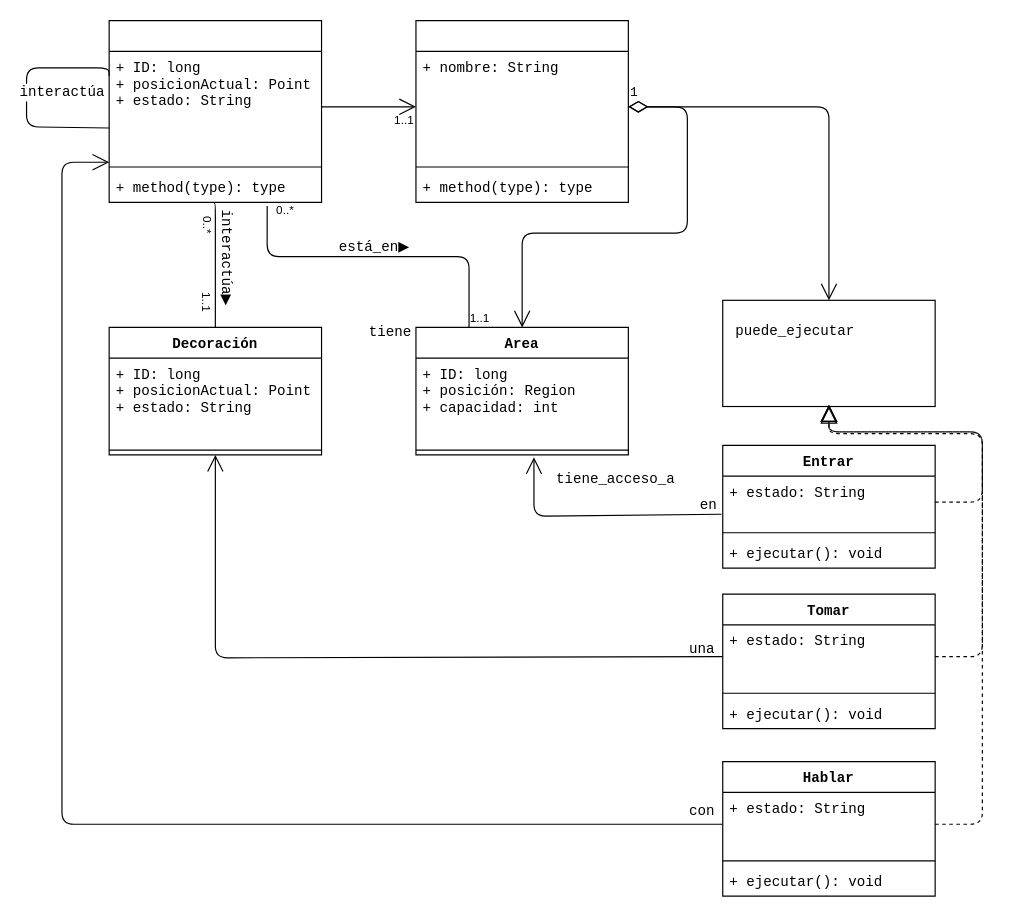
Image size: 1021x920. Some labels were removed from this diagram. Here are the shapes that lost their labels. From the top down, the box of each, then its label:
(108, 19, 322, 202): Participante
(415, 19, 628, 202): Rol
(722, 299, 935, 407): <<Interface>> Acción + ejecutar(): void
